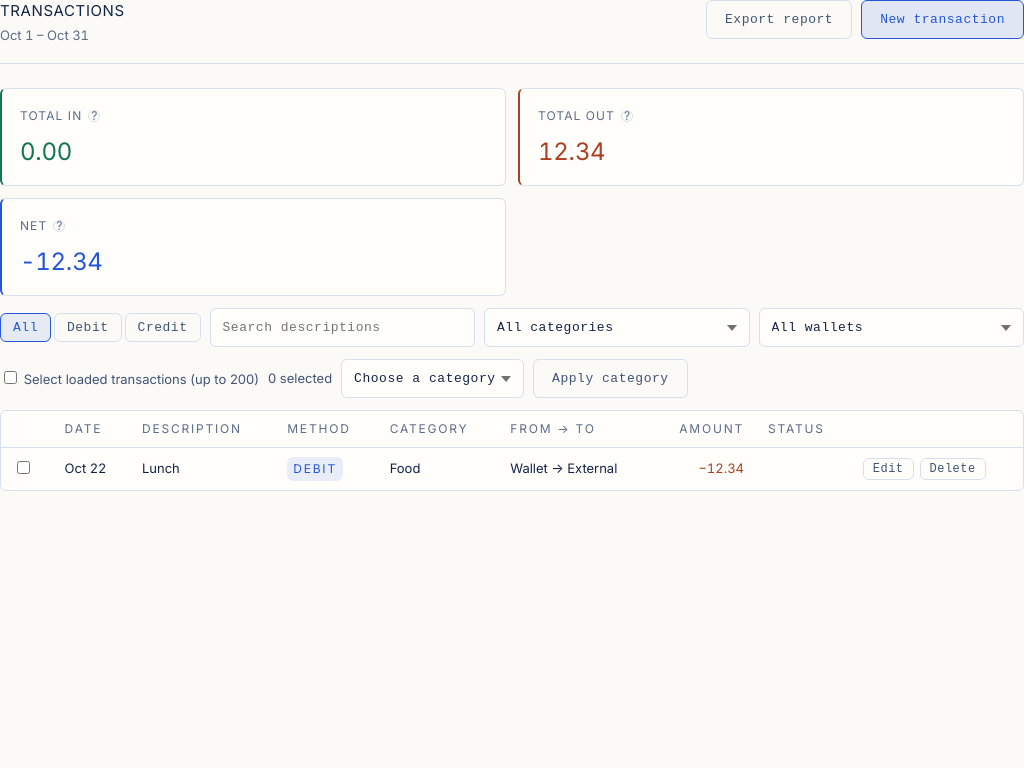
Test: transaction cleanup › cancels an in-progress export without downloading a file
This screenshot has width=1024, height=768.
Expected: the cell "Lunch" is shown, [130, 448, 275, 490]
Click the button "Export report".
click(779, 20)  # box [706, 0, 852, 39]
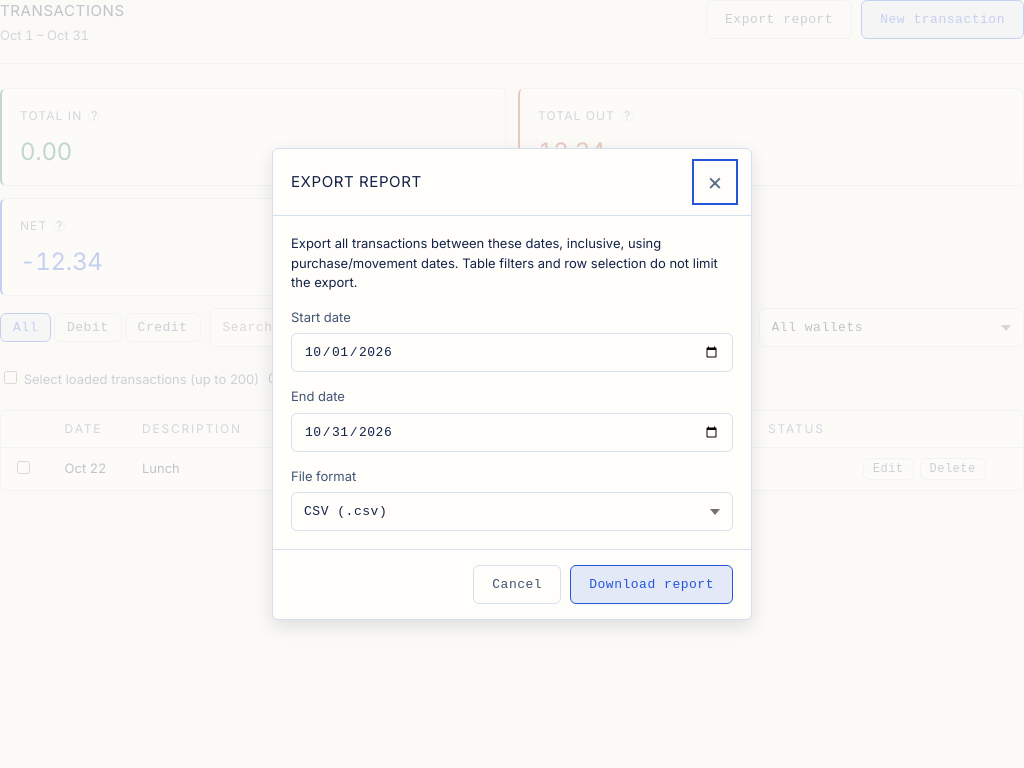
Click the button "Download report".
click(652, 584)  # box [570, 565, 733, 604]
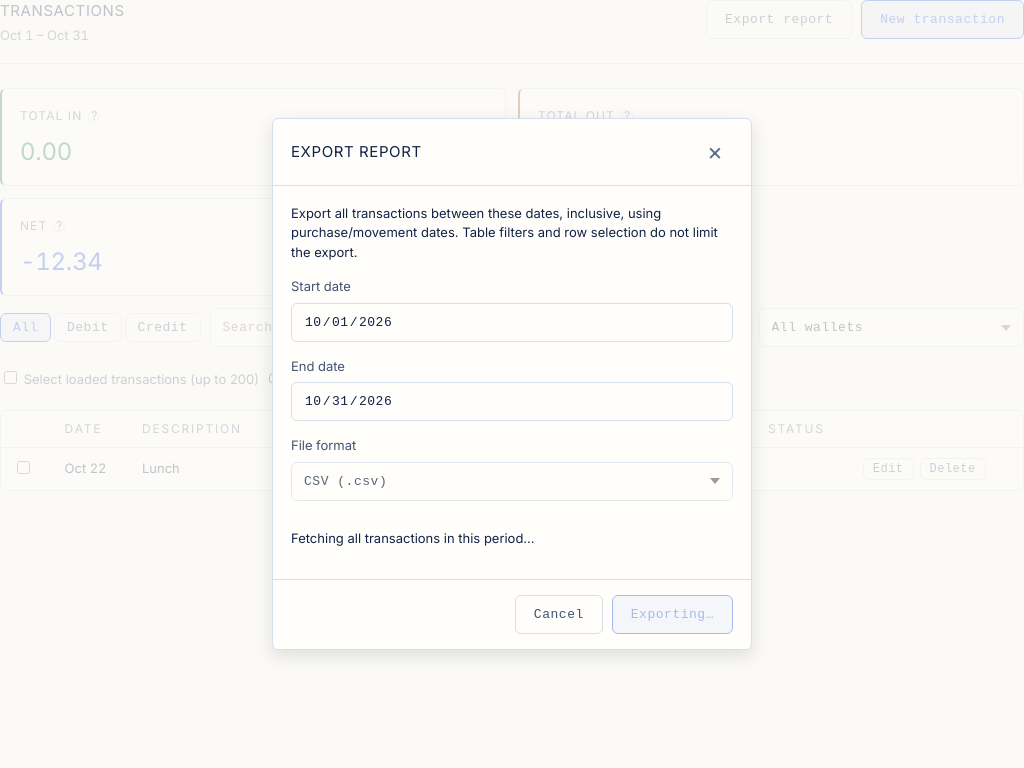
Expected: the button "Exporting…" is disabled, [612, 595, 733, 634]
Click the button "Cancel".
click(559, 615)  # box [515, 595, 603, 634]
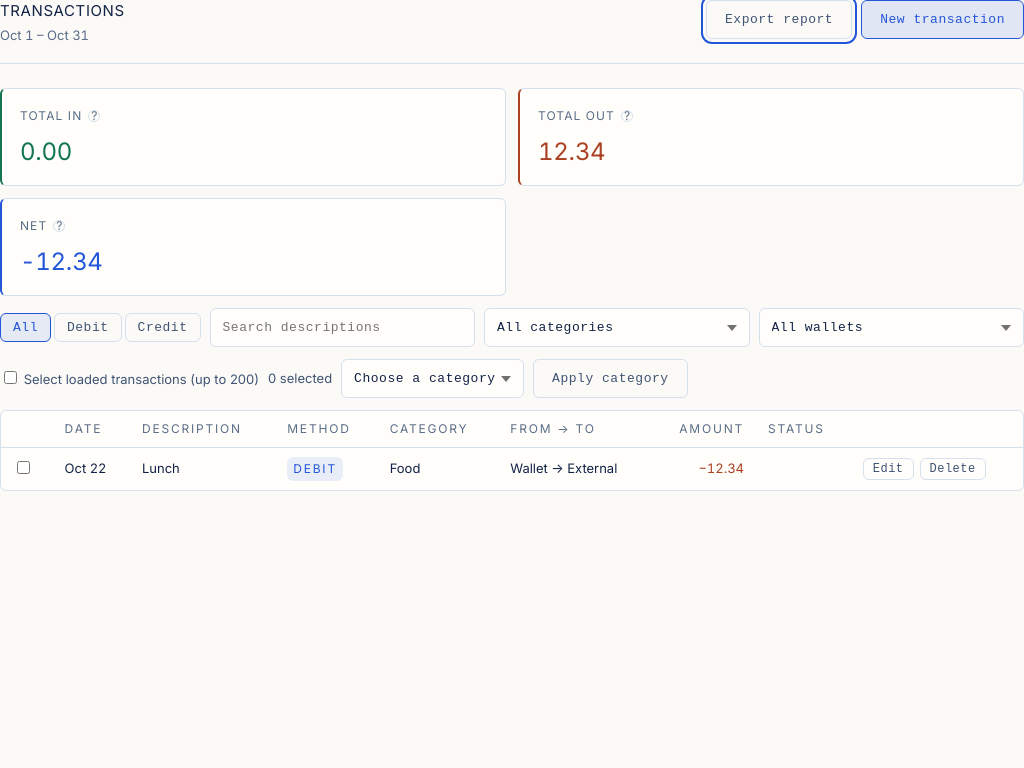
Expected: the dialog is gone
